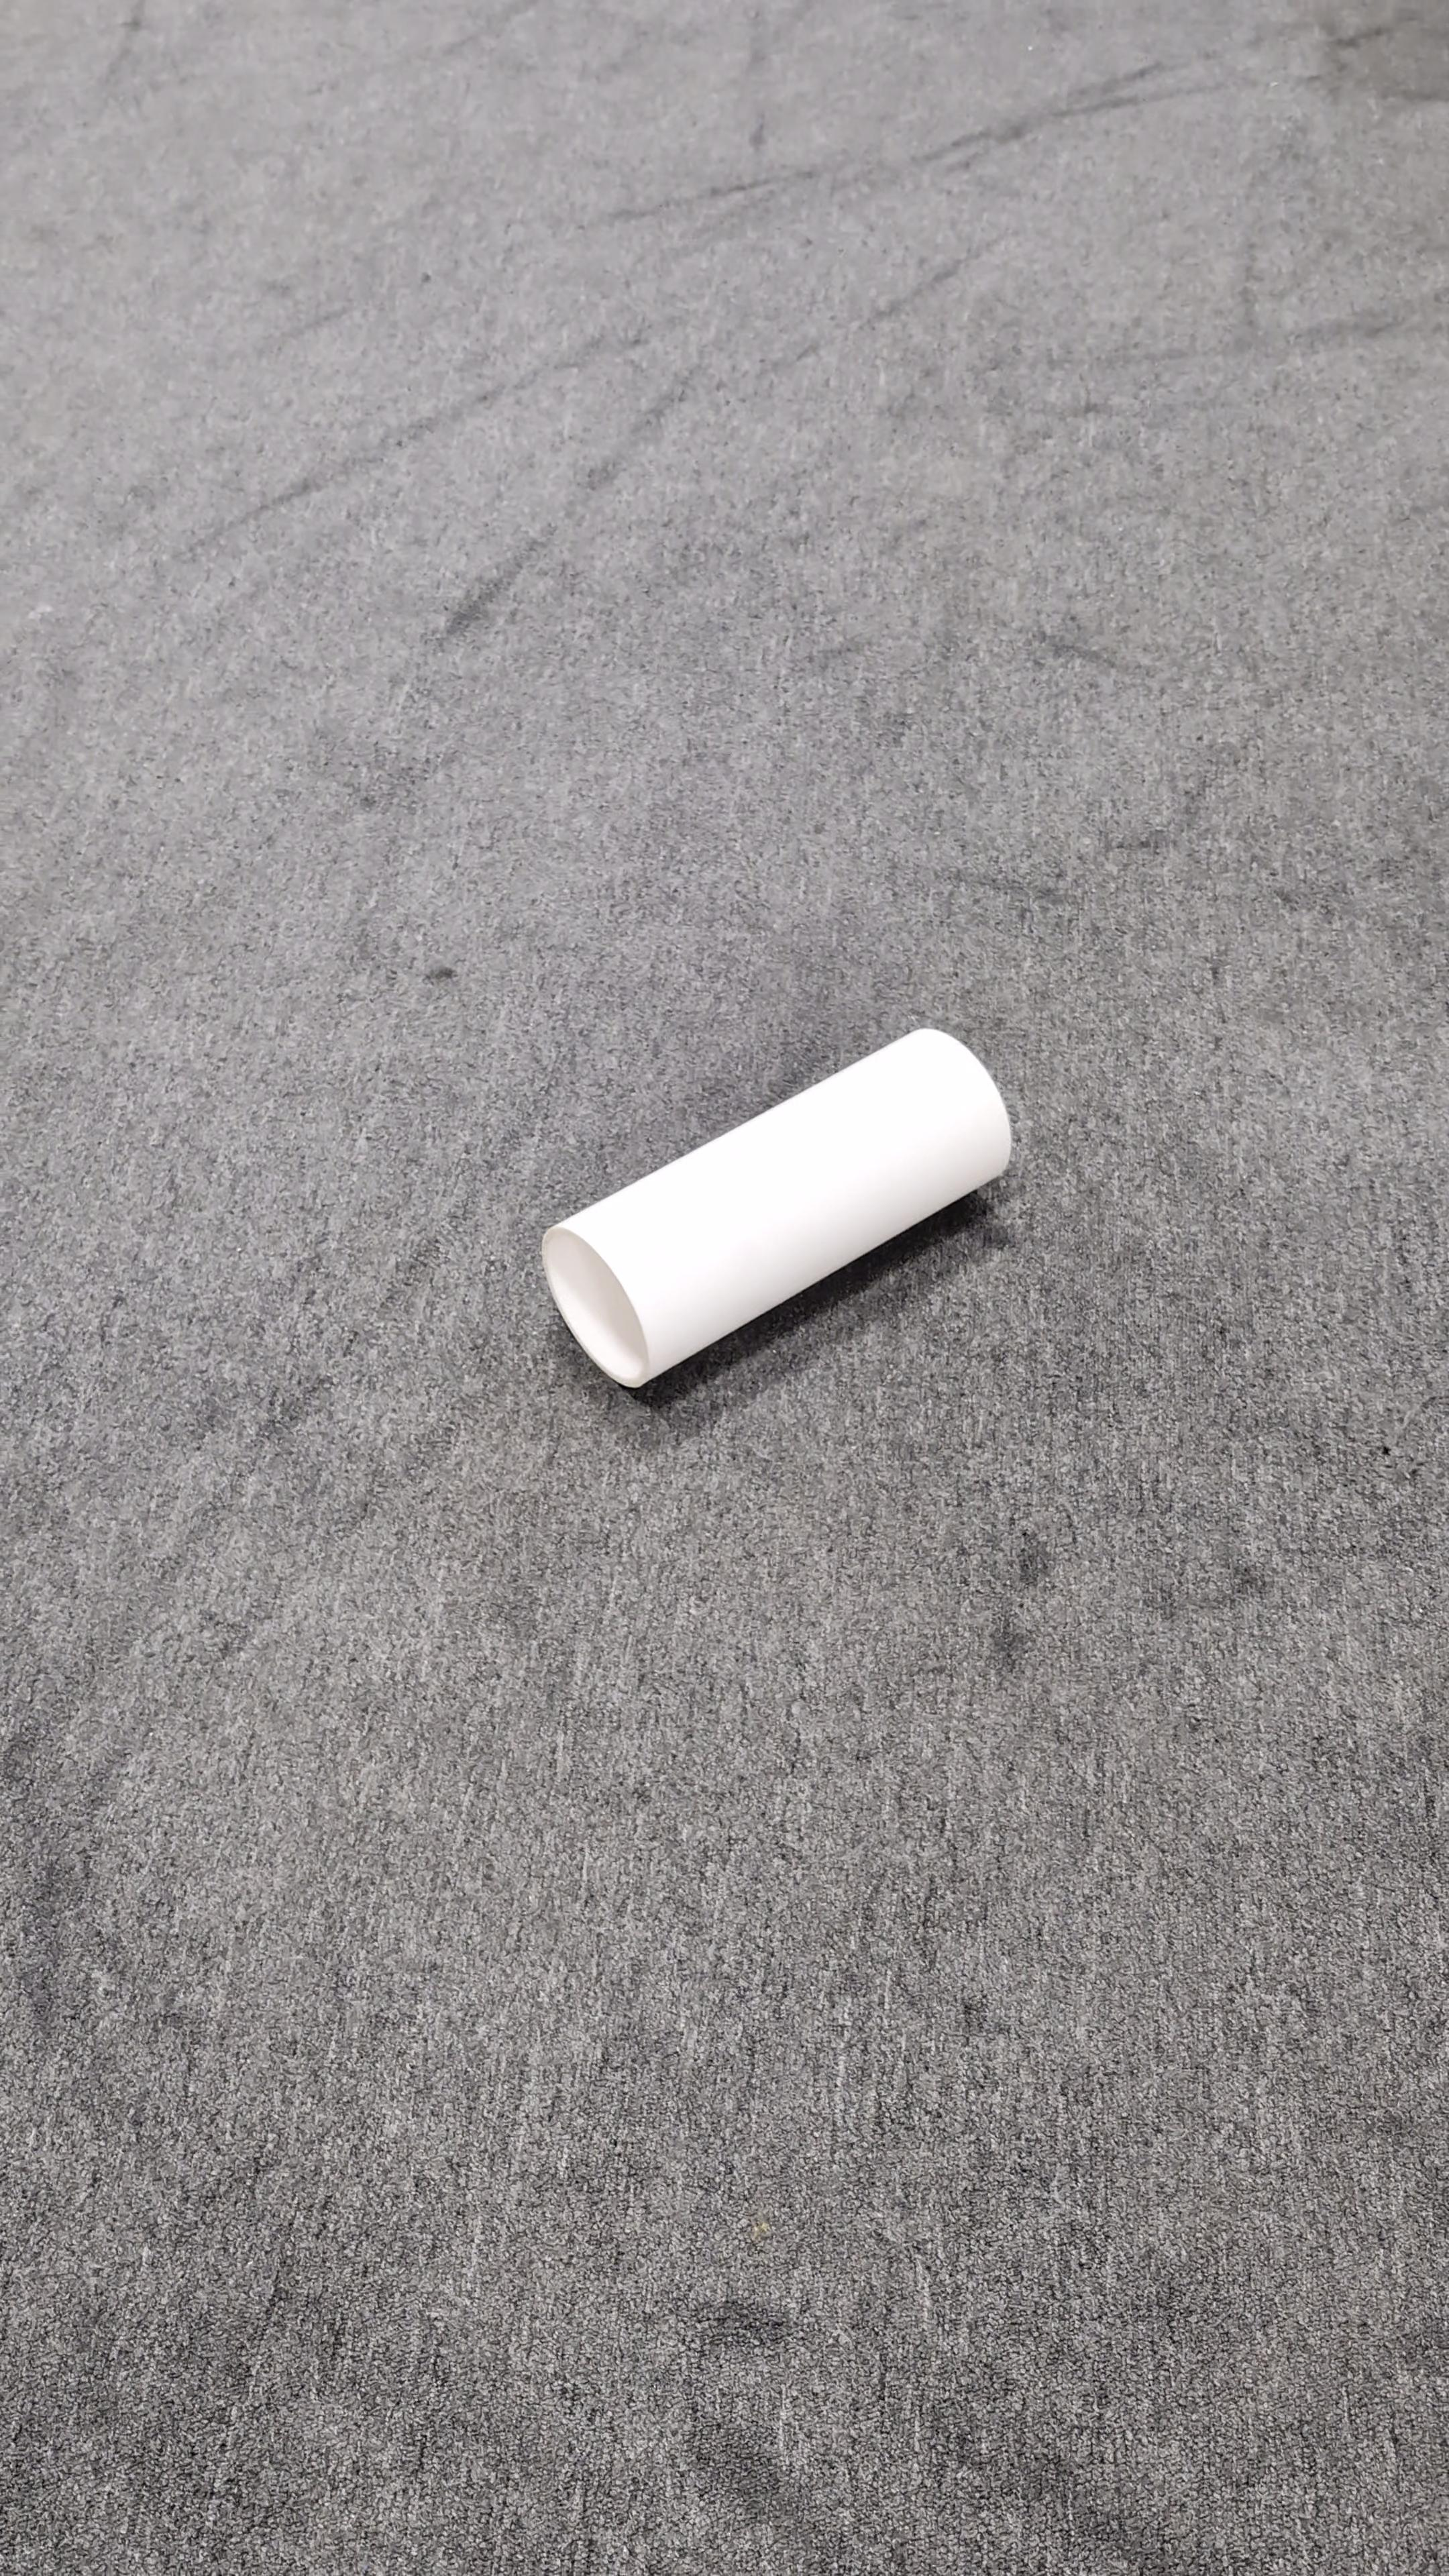coral: (547, 1031, 1010, 1389)
